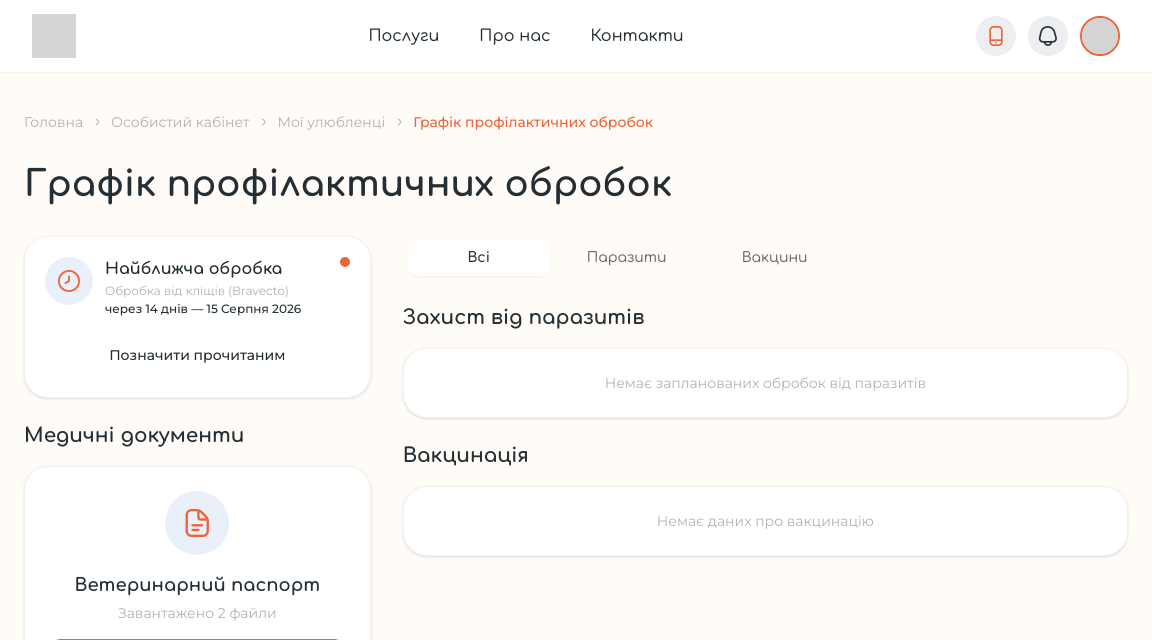
it: PetCareSchedulePage › renders upcoming treatment card and marks it as read
Expected: the heading "Найближча обробка" is shown, [105,257,301,281]
Expected: the text "Обробка від кліщів (Bravecto)" is shown, [105,283,301,299]
Click the button "Позначити прочитаним" at (197, 355), box [45,333,350,377]
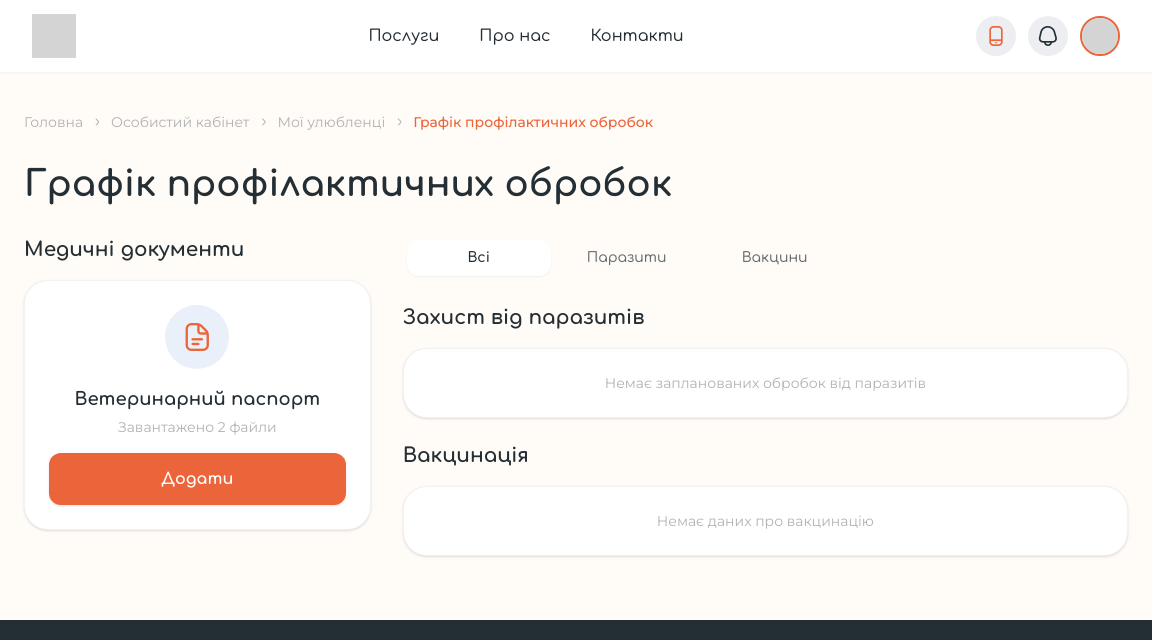
Expected: the button "Позначити прочитаним" is gone
